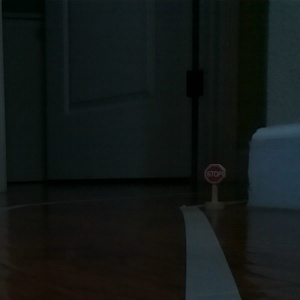stop sign: (201, 162, 227, 212)
